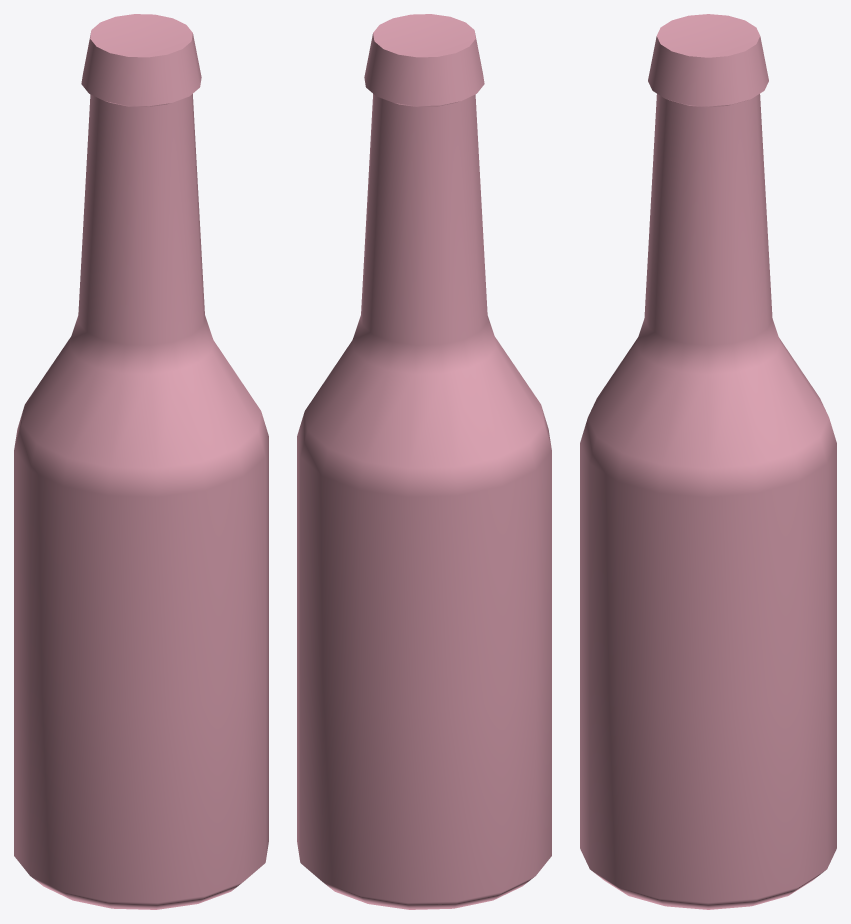
The model's file is Bottle.fbx.
The picture shows the model from 3 angles, left to right: view 1: azimuth 30°, elevation 25°; view 2: azimuth 150°, elevation 25°; view 3: azimuth 270°, elevation 25°; orthographic projection.
Visible parts, largest first — view 1: Bottle; view 2: Bottle; view 3: Bottle.
Part boxes in pixels (left/top/right/bottom): Bottle: left=14, top=14, right=268, bottom=909; Bottle: left=297, top=14, right=551, bottom=909; Bottle: left=580, top=14, right=836, bottom=909.
Bounding box in the file's own units: 12.03 × 42.7 × 12.03.
